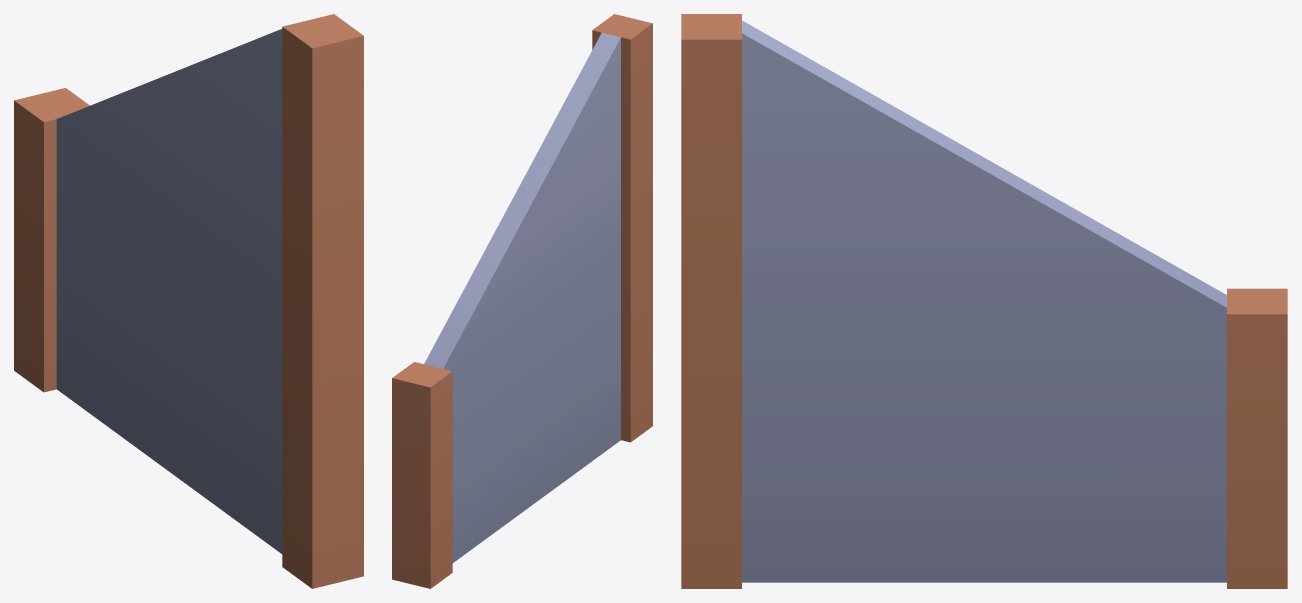
The model's file is wall-slope.glb.
3 renders of one model, left to right at view 1: azimuth 30°, elevation 25°; view 2: azimuth 150°, elevation 25°; view 3: azimuth 270°, elevation 25°, orthographic. The views are drawn at different scales.
Parts seen in each view (by area): view 1: wall-slope; view 2: wall-slope; view 3: wall-slope.
Part boxes in pixels (x1,y1,x2,y2): wall-slope: [14, 14, 363, 588]; wall-slope: [392, 14, 652, 588]; wall-slope: [681, 14, 1287, 588].
Bounding box in the file's own units: 0.1 × 1 × 1.
1 material, 1 textured.
